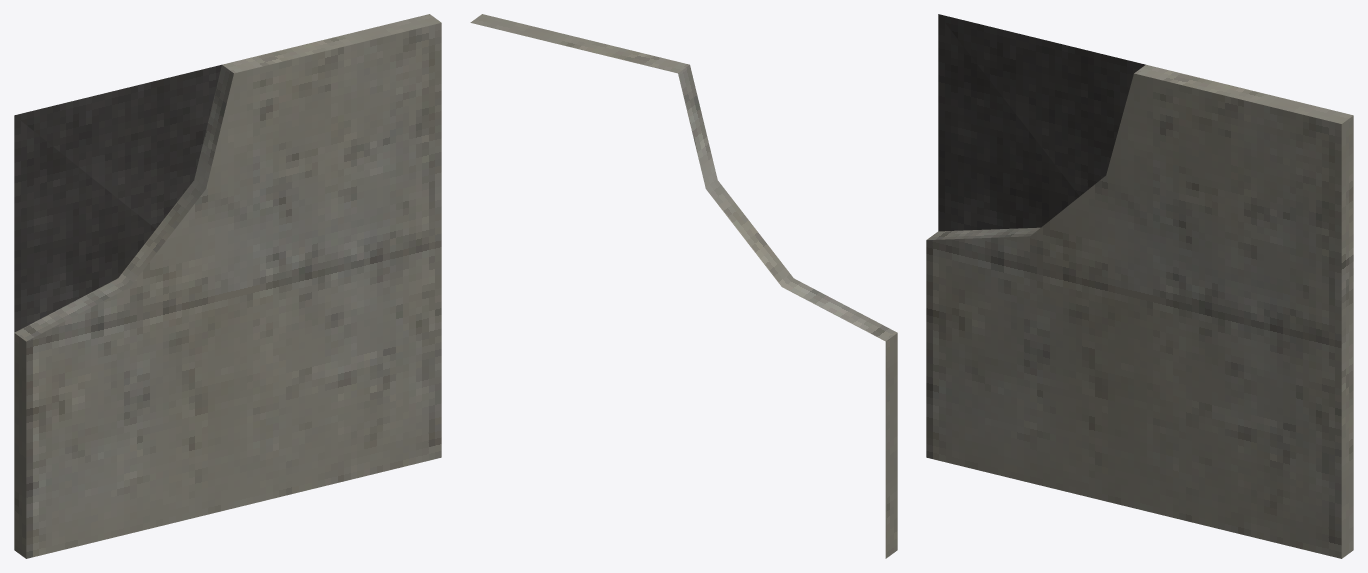
Rendered from roadAsphalt_cornerInner2.glb.
The picture shows the model from 3 angles, left to right: view 1: azimuth 30°, elevation 25°; view 2: azimuth 150°, elevation 25°; view 3: azimuth 330°, elevation 25°; orthographic projection.
Visible parts, largest first — view 1: roadAsphalt_cornerInner; view 2: roadAsphalt_cornerInner; view 3: roadAsphalt_cornerInner.
Part boxes in pixels (x1,y1,x2,y2): roadAsphalt_cornerInner: [14, 14, 441, 558]; roadAsphalt_cornerInner: [470, 14, 897, 558]; roadAsphalt_cornerInner: [926, 14, 1353, 558].
Bounding box in the file's own units: 1 × 1 × 0.05.
2 materials, 2 textured.
